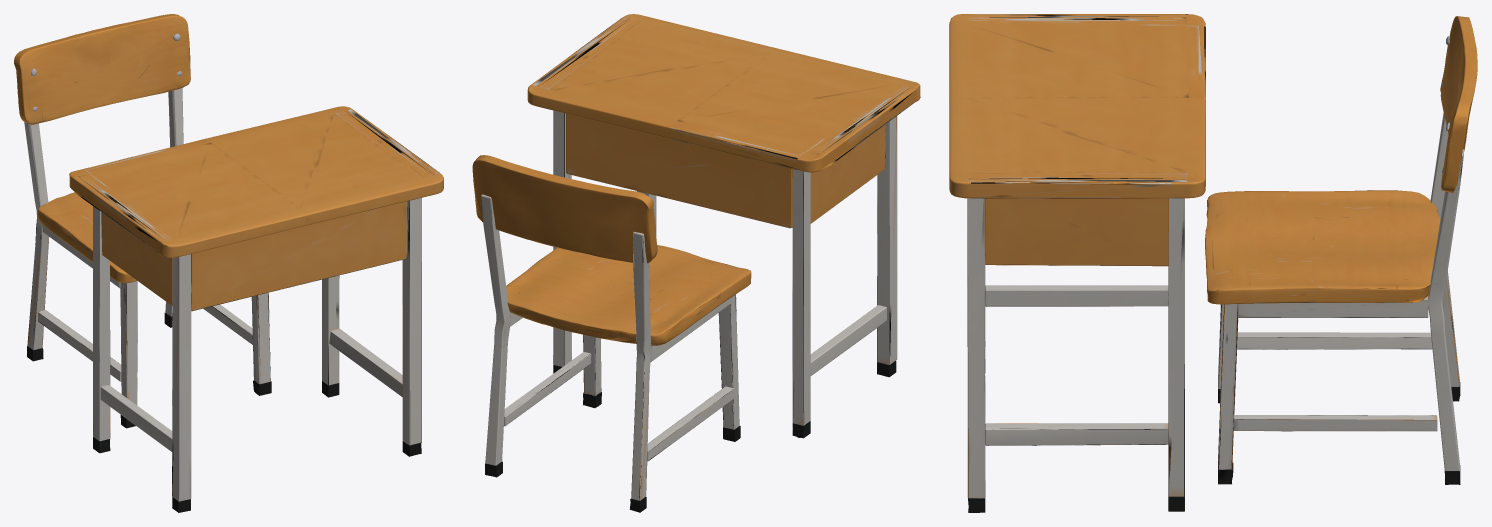
Rendered from StudentDeskAndChair.glb.
3 views of the same model, side by side, from view 1: azimuth 30°, elevation 25°; view 2: azimuth 150°, elevation 25°; view 3: azimuth 270°, elevation 25° (orthographic). The views are drawn at different scales.
Visible parts, largest first — view 1: geometry_0; view 2: geometry_0; view 3: geometry_0.
Part boxes in pixels (x1,y1,x2,y2): geometry_0: [14, 14, 443, 512]; geometry_0: [472, 14, 920, 512]; geometry_0: [949, 14, 1477, 512].
Bounding box in the file's own units: 0.7236 × 0.7529 × 0.9482.
1 material, 1 textured.
